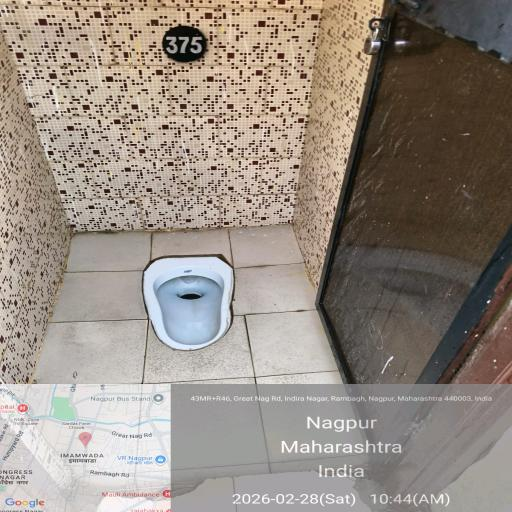clean_floor: (0, 11, 338, 210)
partial_dirty_floor: (34, 216, 354, 385), (322, 78, 481, 387)
partial_dirty_indian: (140, 257, 240, 348)
